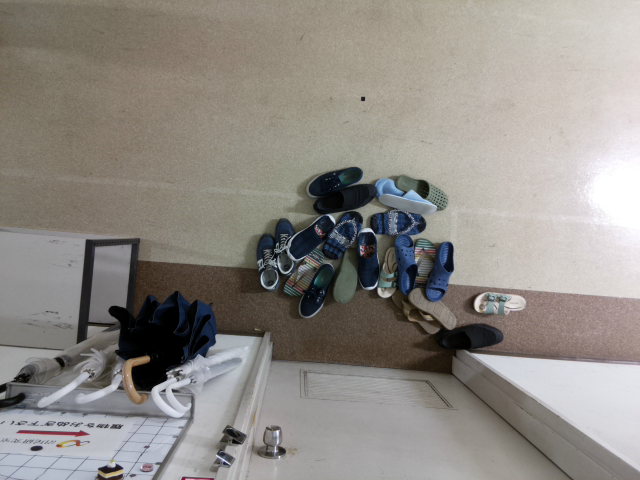Copy of Copy of Copy of Copy of Copy of Copy of Copy of Copy of sandal: (391, 292, 439, 333)
Copy of Copy of Copy of Copy of Copy of Copy of Copy of sandal: (408, 287, 454, 329)
Copy of Copy of Copy of Copy of Copy of Copy of Copy of shoe: (438, 322, 503, 351)
Copy of Copy of Copy of Copy of Copy of Copy of sandal: (413, 237, 436, 288)
Copy of Copy of Copy of Copy of Copy of Copy of shoe: (356, 227, 380, 289)
Copy of Copy of Copy of Copy of Copy of sandal: (376, 246, 398, 298)
Copy of Copy of Copy of Copy of Copy of shoe: (298, 262, 335, 318)
Copy of Copy of Copy of Copy of sandal: (369, 209, 426, 234)
Copy of Copy of Copy of Copy of shoe: (255, 231, 279, 291)
Copy of Copy of Copy of Copy of slipper: (393, 233, 417, 295)
Copy of Copy of Copy of sandal: (333, 248, 357, 304)
Copy of Copy of Copy of shoe: (275, 216, 296, 276)
Copy of Copy of Copy of slipper: (425, 239, 454, 301)
Copy of Copy of sandal: (321, 211, 363, 259)
Copy of Copy of shoe: (286, 213, 336, 261)
Copy of Copy of slipper: (394, 175, 447, 210)
Copy of sandal: (282, 249, 324, 294)
Copy of shoe: (313, 182, 377, 214)
Copy of slipper: (374, 178, 406, 196)
sandal: (473, 290, 526, 316)
shoe: (304, 165, 363, 198)
slipper: (379, 189, 438, 215)
